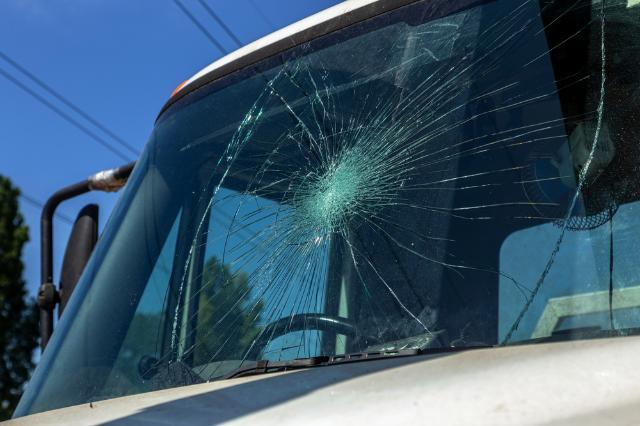glass shatter: (11, 0, 640, 420)
